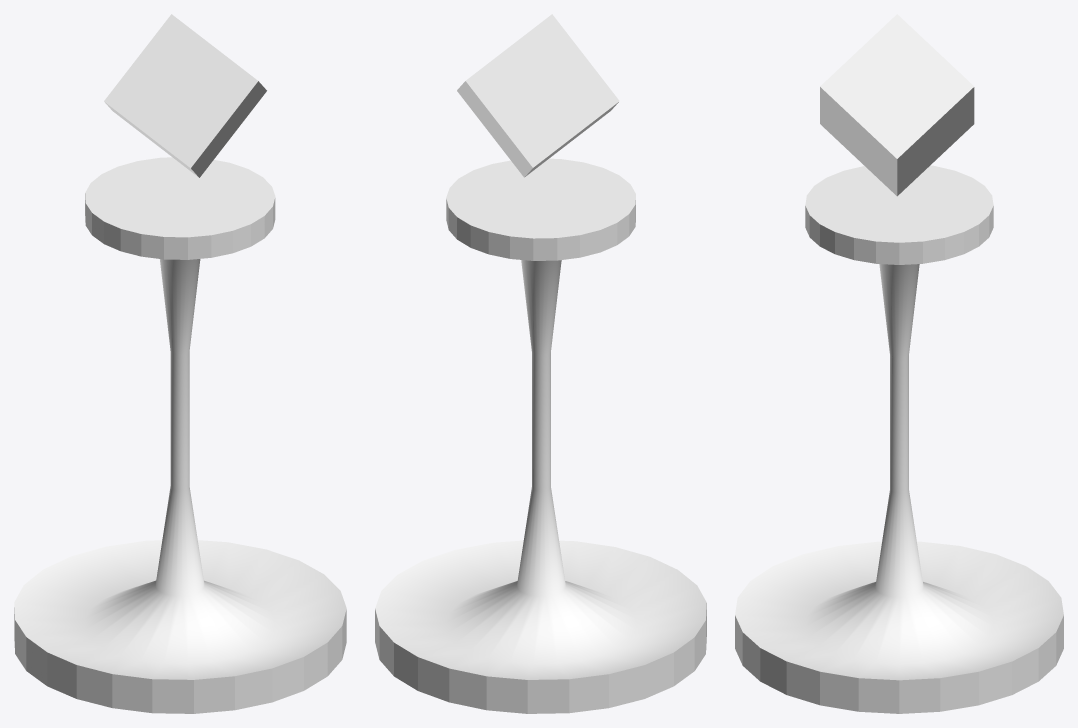
Rendered from venatacorrect_building_water.FBX.
3 renders of one model, left to right at view 1: azimuth 30°, elevation 25°; view 2: azimuth 150°, elevation 25°; view 3: azimuth 270°, elevation 25°, orthographic.
Parts seen in each view (by area): view 1: Cylinder001, Box001; view 2: Cylinder001, Box001; view 3: Cylinder001, Box001.
Boxes of the visible parts, x1,y1,x2,y2 form: Cylinder001: [14, 157, 346, 713]; Box001: [104, 14, 266, 177]; Cylinder001: [375, 158, 706, 713]; Box001: [457, 14, 619, 177]; Cylinder001: [735, 165, 1063, 713]; Box001: [820, 14, 974, 196].
Bounding box in the file's own units: 60.09 × 126 × 60.21.
Materials: 1 (1 with a texture image).
